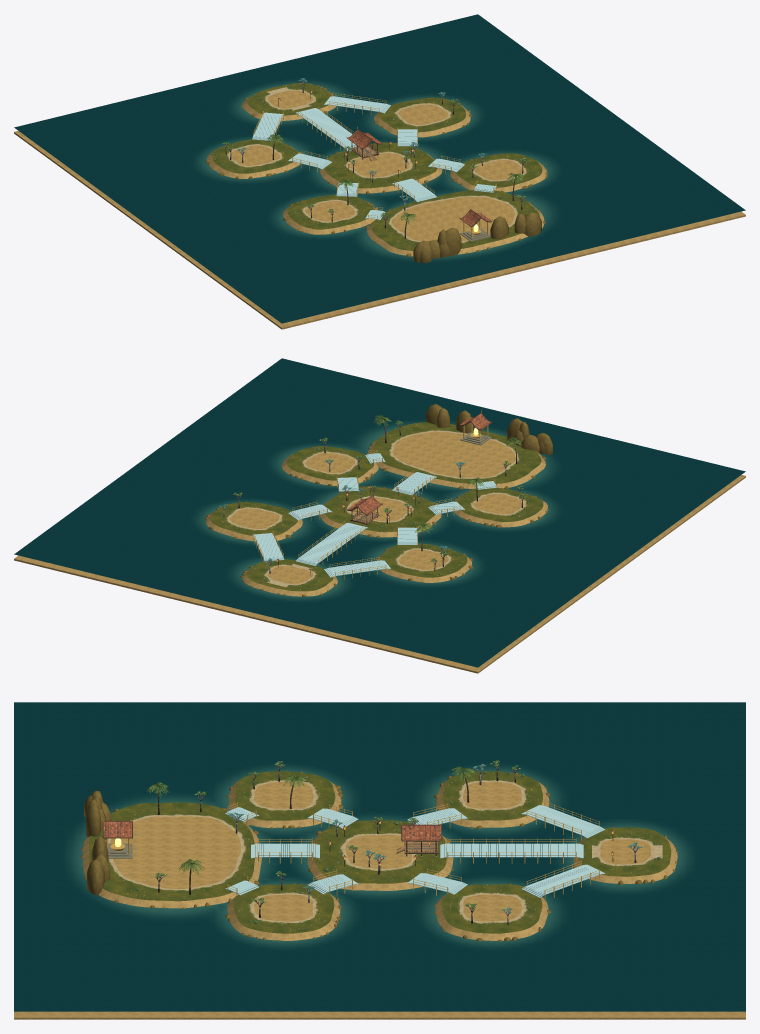
Rendered from rebirth-sithandon.glb.
3 renders of one model, top to bottom at view 1: azimuth 30°, elevation 25°; view 2: azimuth 150°, elevation 25°; view 3: azimuth 270°, elevation 25°, orthographic. The views are drawn at different scales.
Visible parts, largest first — view 1: Water surface | water, Ground - varied meadow | meadow_rb, Tracks - worn earth | path_rb, Sea bed | sand, Bridge / separate deck boards | glass_deck, Island beaches | sand, Feathered road shoulders | path_edge, Golden Meru rocks | goldrock, Bridge / side handrails | gold, Golden shore rocks | goldrock, Bridge / weathered piles | gold; view 2: Water surface | water, Ground - varied meadow | meadow_rb, Tracks - worn earth | path_rb, Sea bed | sand, Bridge / separate deck boards | glass_deck, Island beaches | sand, Feathered road shoulders | path_edge, Golden Meru rocks | goldrock, Bridge / side handrails | gold, Golden shore rocks | goldrock, Bridge / weathered piles | gold; view 3: Water surface | water, Ground - varied meadow | meadow_rb, Tracks - worn earth | path_rb, Bridge / separate deck boards | glass_deck, Island beaches | sand, Sea bed | sand, Feathered road shoulders | path_edge, Golden Meru rocks | goldrock, Bridge / side handrails | gold, Bridge / weathered piles | gold, Golden shore rocks | goldrock, Roof / overlapping clay tiles | roof.
Part boxes in pixels (<box>): Water surface | water: <box>14,14,745,323</box>; Ground - varied meadow | meadow_rb: <box>211,83,542,250</box>; Tracks - worn earth | path_rb: <box>231,90,523,241</box>; Sea bed | sand: <box>14,131,745,329</box>; Bridge / separate deck boards | glass_deck: <box>252,96,496,220</box>; Island beaches | sand: <box>207,90,546,256</box>; Feathered road shoulders | path_edge: <box>227,87,526,242</box>; Golden Meru rocks | goldrock: <box>413,212,541,263</box>; Bridge / side handrails | gold: <box>253,93,495,217</box>; Golden shore rocks | goldrock: <box>205,85,548,256</box>; Bridge / weathered piles | gold: <box>253,93,496,220</box>; Water surface | water: <box>14,358,745,667</box>; Ground - varied meadow | meadow_rb: <box>210,422,543,591</box>; Tracks - worn earth | path_rb: <box>229,431,523,583</box>; Sea bed | sand: <box>14,475,745,673</box>; Bridge / separate deck boards | glass_deck: <box>252,453,496,577</box>; Island beaches | sand: <box>206,438,547,596</box>; Feathered road shoulders | path_edge: <box>225,430,526,587</box>; Golden Meru rocks | goldrock: <box>426,404,552,454</box>; Bridge / side handrails | gold: <box>253,450,495,574</box>; Golden shore rocks | goldrock: <box>204,424,548,596</box>; Bridge / weathered piles | gold: <box>253,450,496,579</box>; Water surface | water: <box>14,702,745,1011</box>; Ground - varied meadow | meadow_rb: <box>89,771,671,933</box>; Tracks - worn earth | path_rb: <box>110,782,651,921</box>; Bridge / separate deck boards | glass_deck: <box>225,805,605,897</box>; Island beaches | sand: <box>83,779,677,940</box>; Sea bed | sand: <box>14,860,745,1019</box>; Feathered road shoulders | path_edge: <box>105,779,662,923</box>; Golden Meru rocks | goldrock: <box>84,790,111,895</box>; Bridge / side handrails | gold: <box>228,802,599,892</box>; Bridge / weathered piles | gold: <box>227,801,599,899</box>; Golden shore rocks | goldrock: <box>80,770,677,941</box>; Roof / overlapping clay tiles | roof: <box>103,822,440,840</box>.
Size of the model in its own units: 176 by 15.87 by 176.
Materials: 38 (34 with a texture image).
